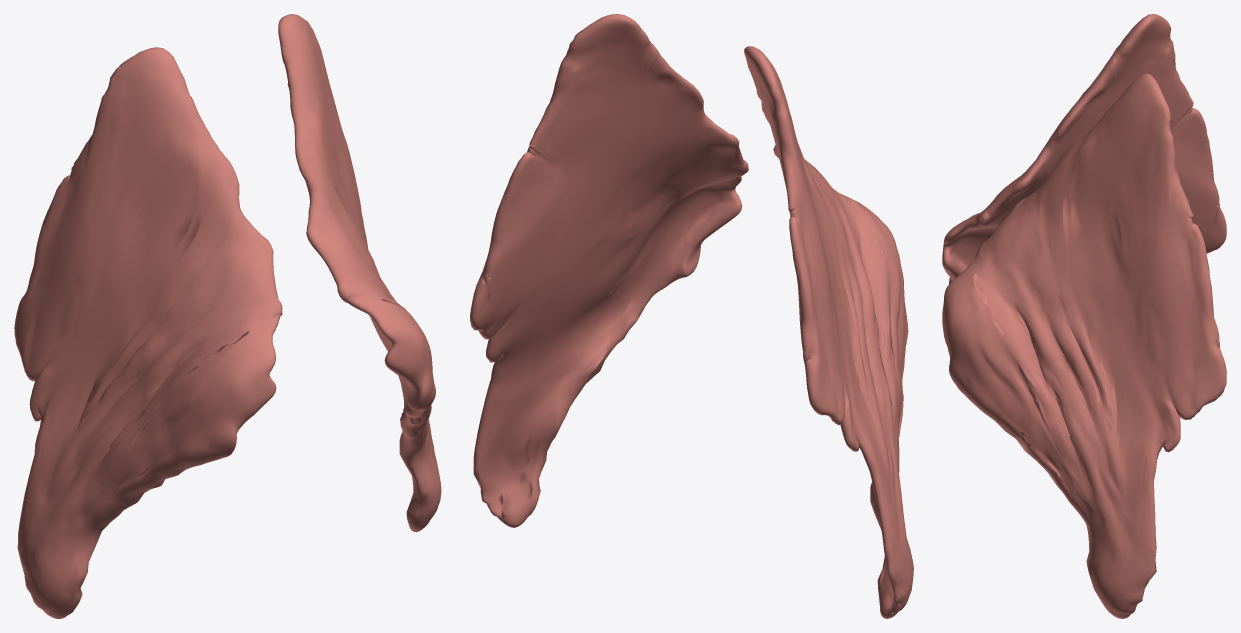
Rendered from nasalis.glb.
The picture shows the model from 3 angles, left to right: view 1: azimuth 30°, elevation 25°; view 2: azimuth 150°, elevation 25°; view 3: azimuth 270°, elevation 25°; orthographic projection. The views are drawn at different scales.
Parts seen in each view (by area): view 1: nasalis_R, nasalis_L; view 2: nasalis_L, nasalis_R; view 3: nasalis_L, nasalis_R.
Part boxes in pixels (box(x1,y1,x2,y2)): nasalis_R: box(14, 47, 282, 618); nasalis_L: box(278, 14, 441, 531); nasalis_L: box(470, 14, 748, 527); nasalis_R: box(744, 46, 913, 618); nasalis_L: box(942, 73, 1226, 618); nasalis_R: box(942, 14, 1226, 283).
Size of the model in its own units: 0.0337 by 0.0422 by 0.0221.
